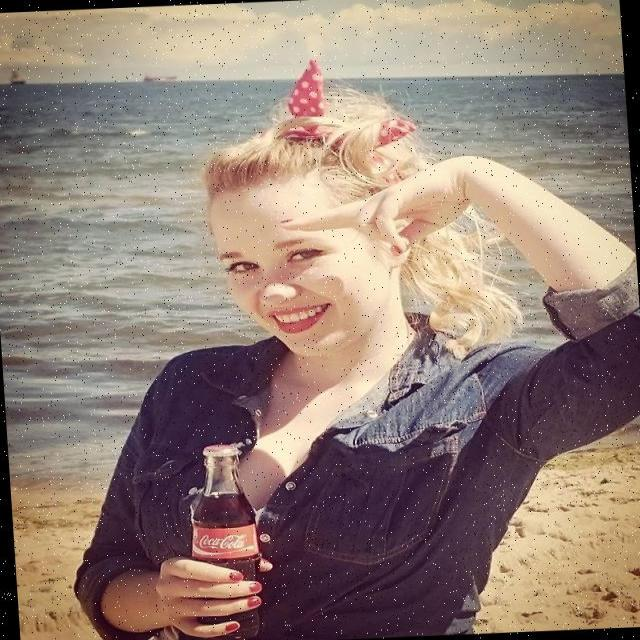coca-cola: (182, 441, 268, 640)
